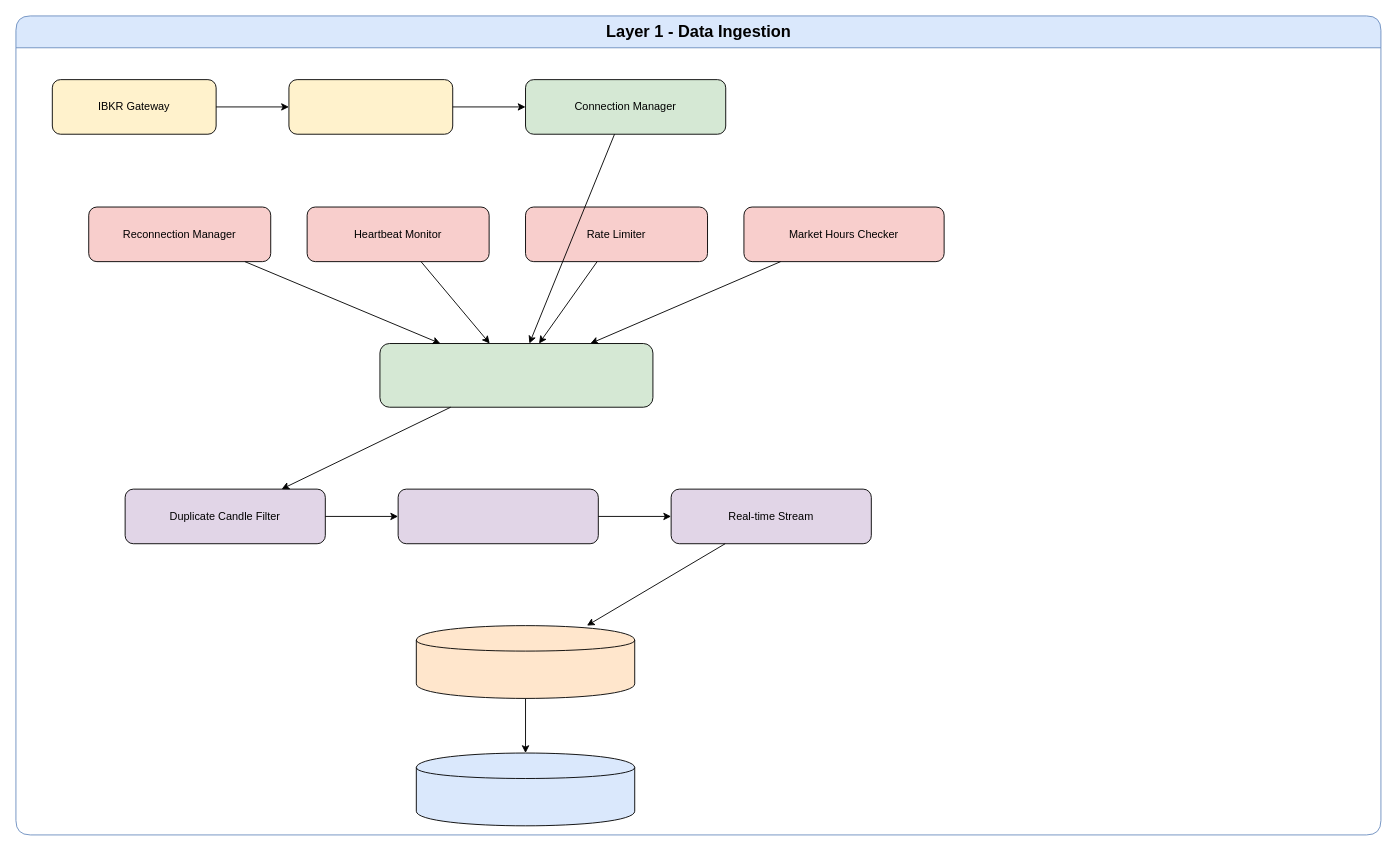
This 1397x851 diagram has some shape labels left out. Each missing label, with the box of its shape:
Data Collector Service: (379, 343, 653, 407)
IBKR API: (288, 79, 453, 134)
Missing Candle Recovery: (397, 488, 598, 544)
Redis Streams / Kafka: (415, 625, 635, 698)
TimescaleDB Writer: (415, 752, 635, 826)
